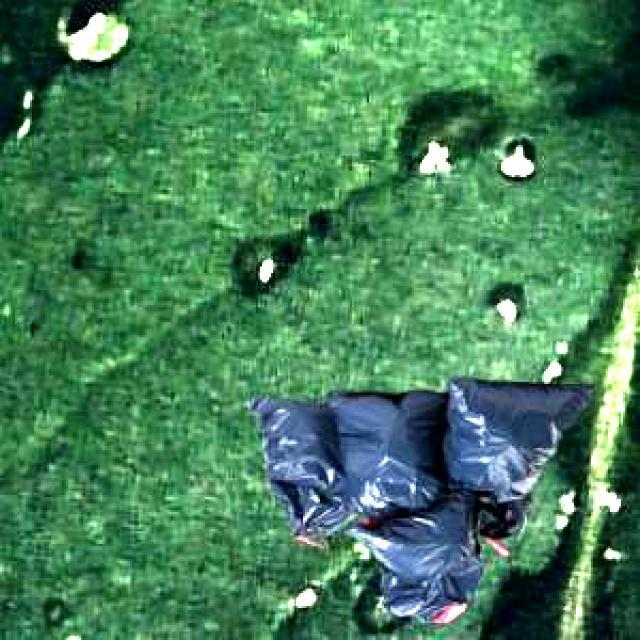Bolsa-de-nilon: (448, 382, 585, 486), (362, 515, 480, 623), (265, 393, 350, 532), (343, 395, 445, 510), (482, 503, 533, 557)
